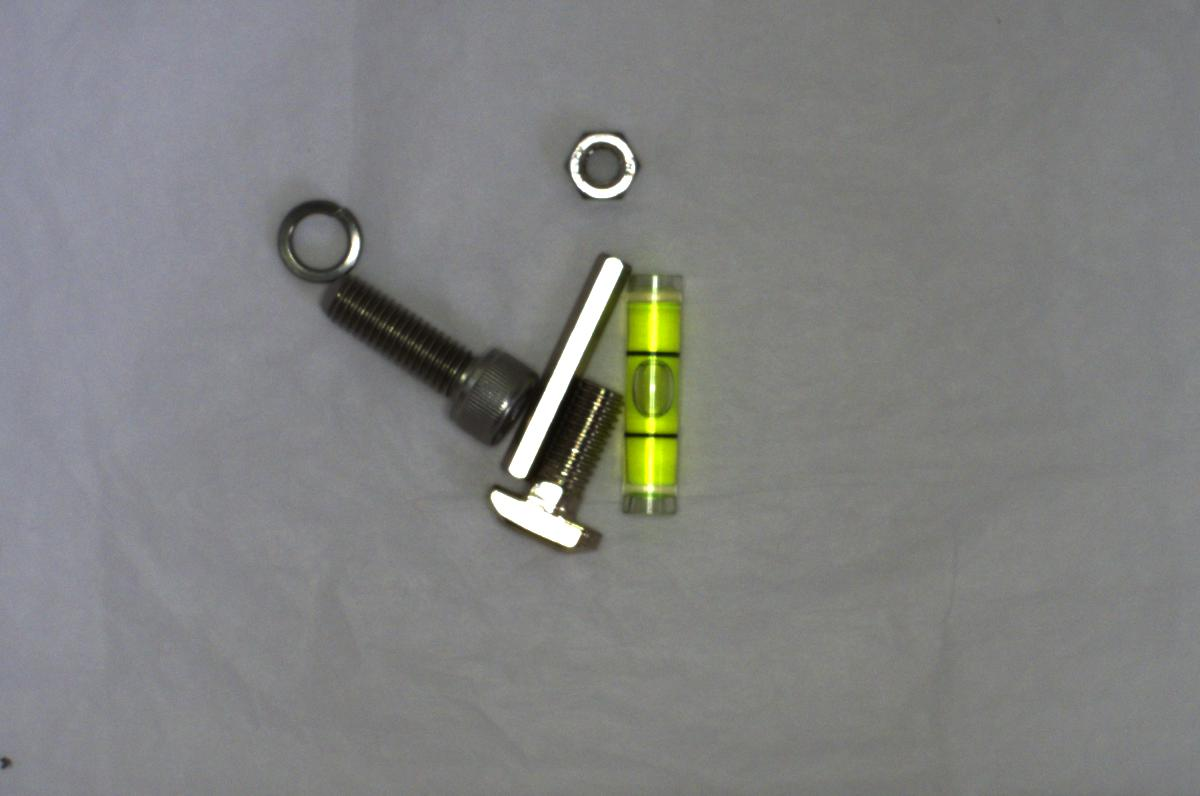Double hexagonal column: (501, 250, 622, 485)
Hexagon nut: (564, 119, 641, 207)
Horizontal bubble: (610, 263, 698, 522)
Spring washer: (267, 193, 372, 285)
T-shaped screw: (484, 382, 625, 556)
